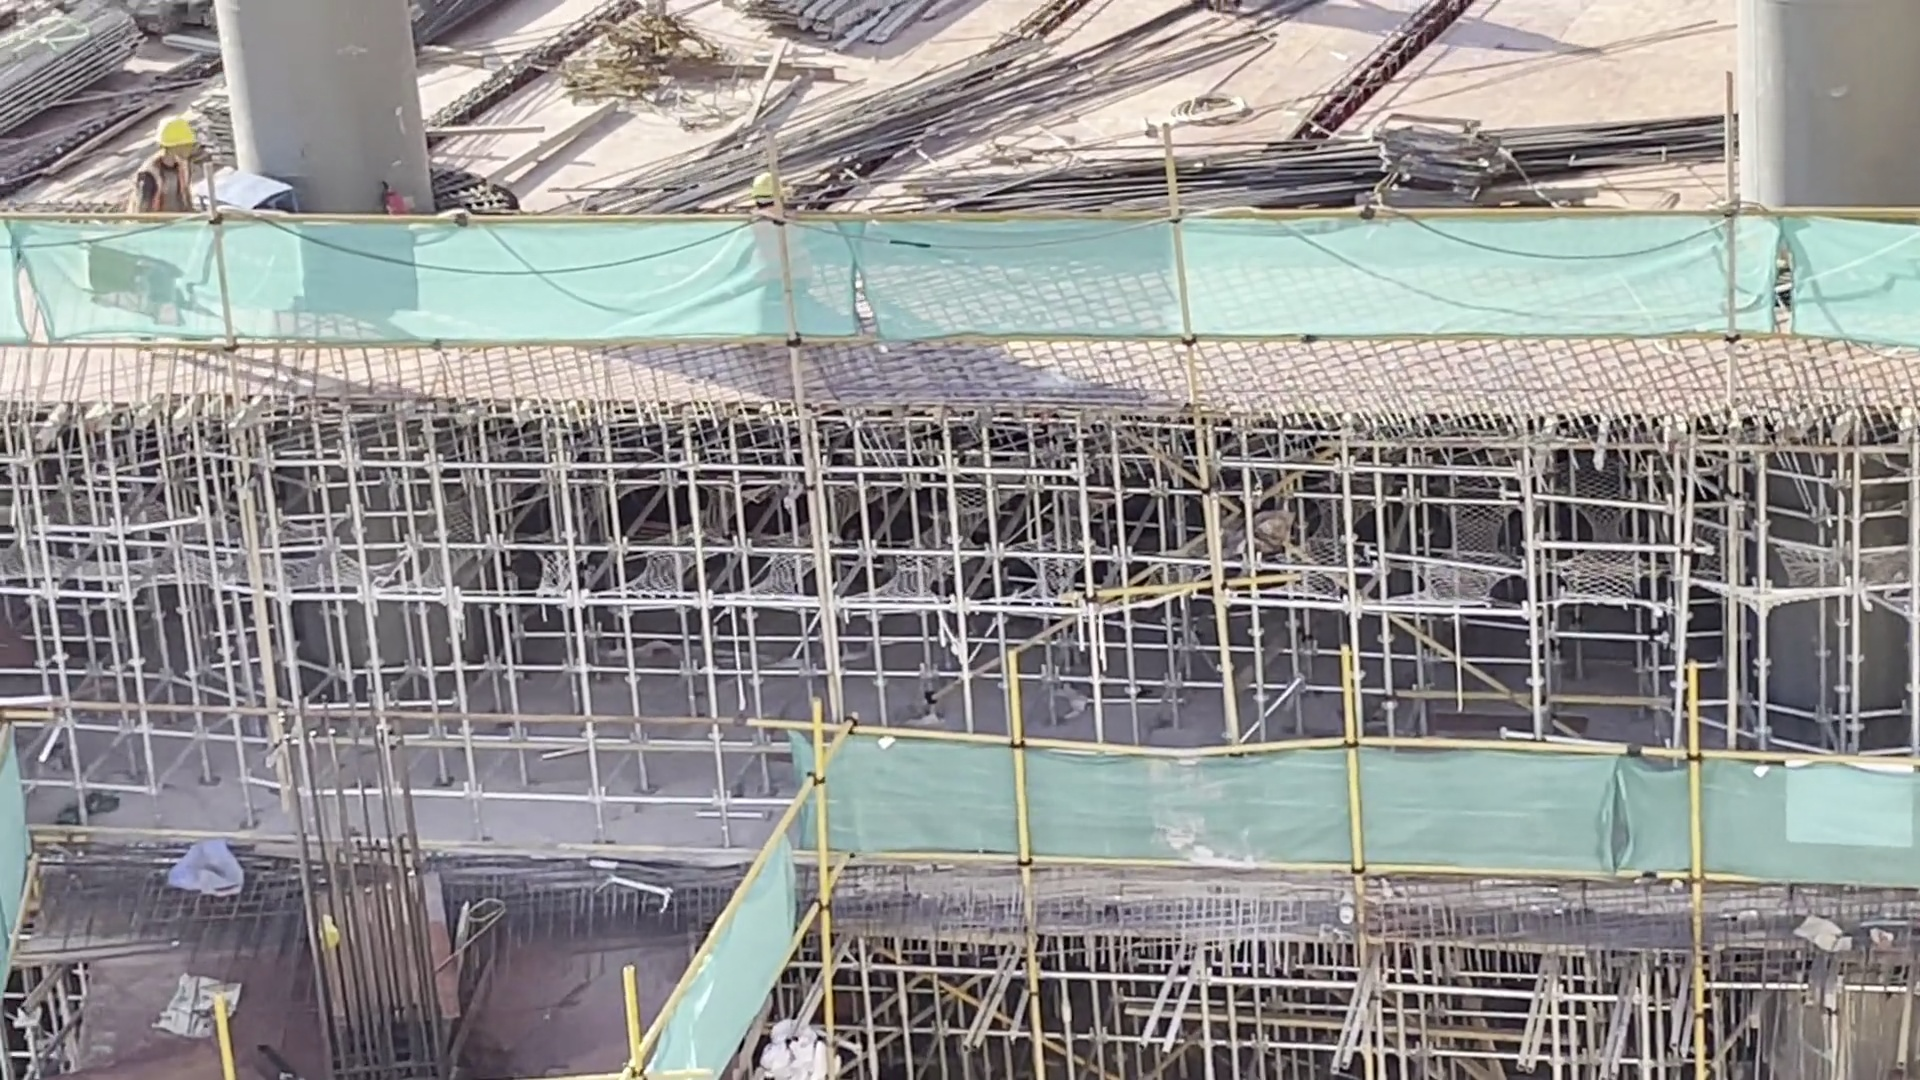helmet: (151, 116, 204, 152)
person: (129, 117, 228, 231)
